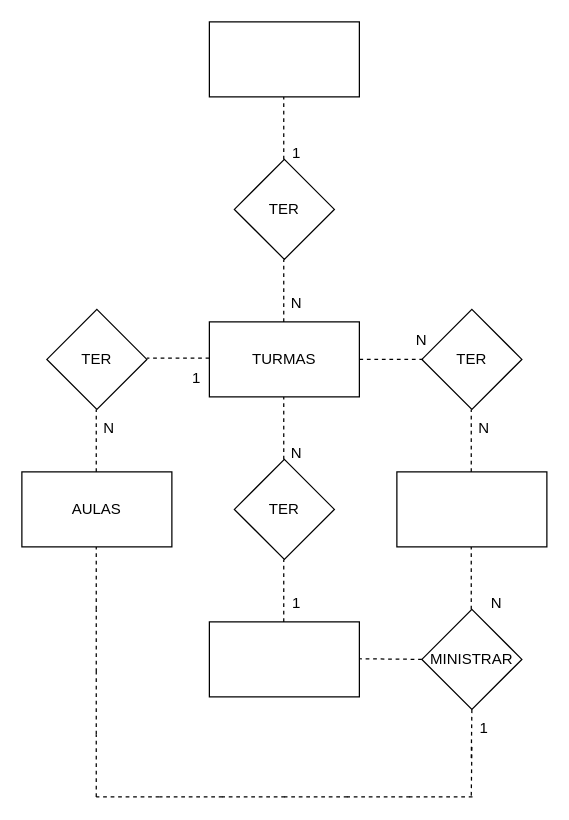
The diagram is 569 pixels wide and 820 high, and some of its shapes have lost their labels. Here are the shapes that lost their labels. From the top down, the centre of each, then its label:
At point (283, 59): "ESCOLA".
At point (471, 509): "PROFESSORES".
At point (283, 659): "SALA".
